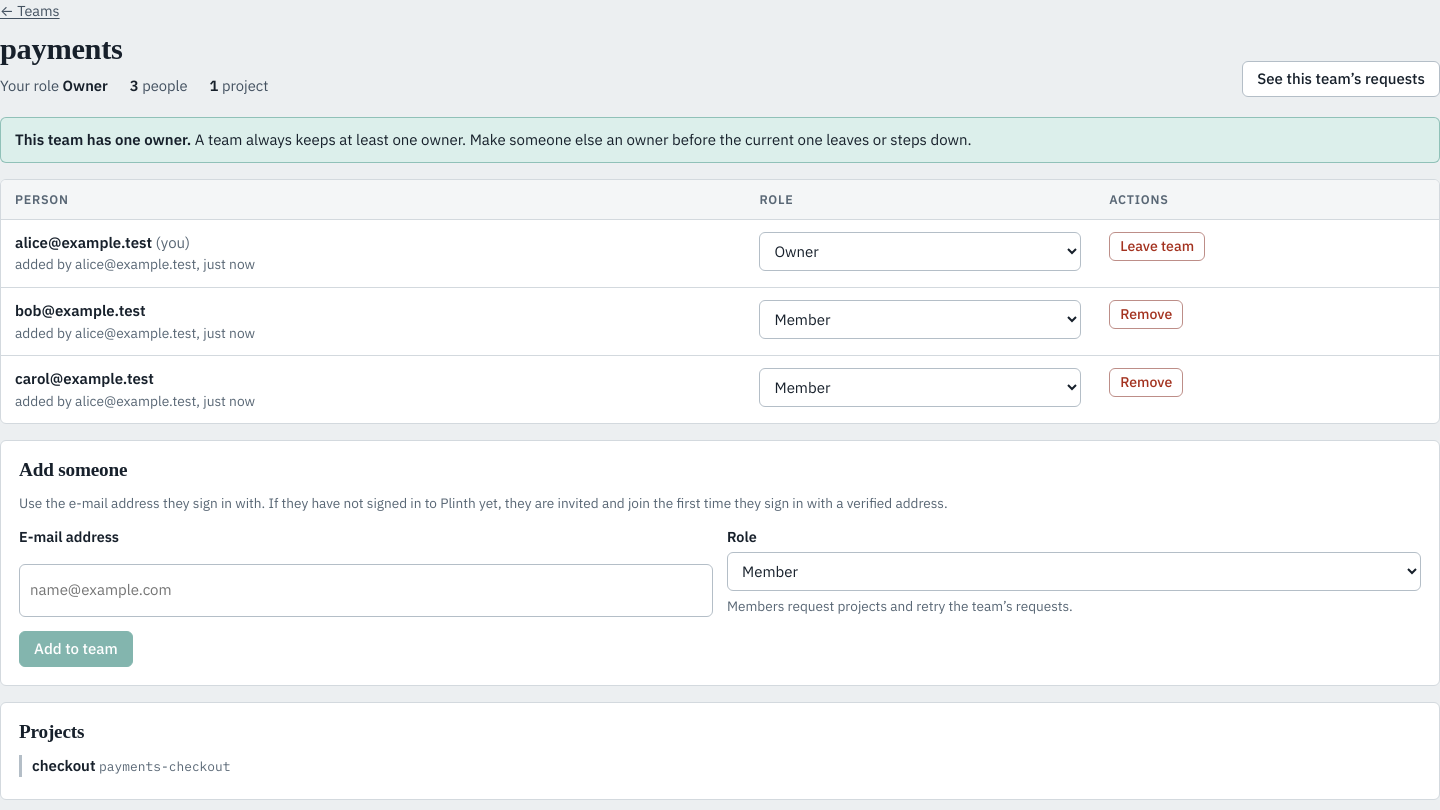
Test: team page for an owner › shows the server's explanation when someone cannot be added
Type "ghost@example.test" into the field labelled "E-mail address" at {"x": 366, "y": 591}, box [19,564,713,617]
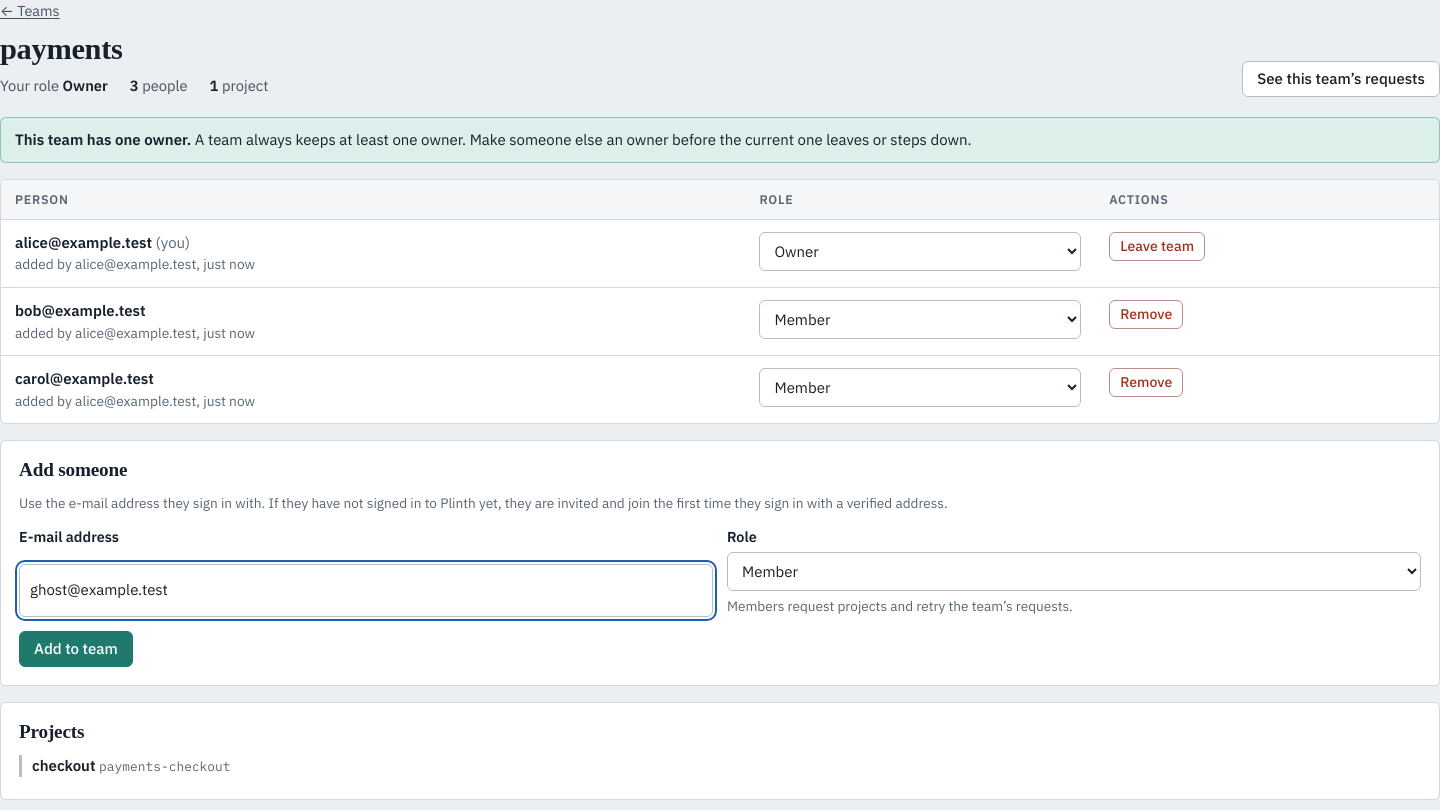
Click the button "Add to team" at {"x": 76, "y": 649}, box [19,631,133,667]
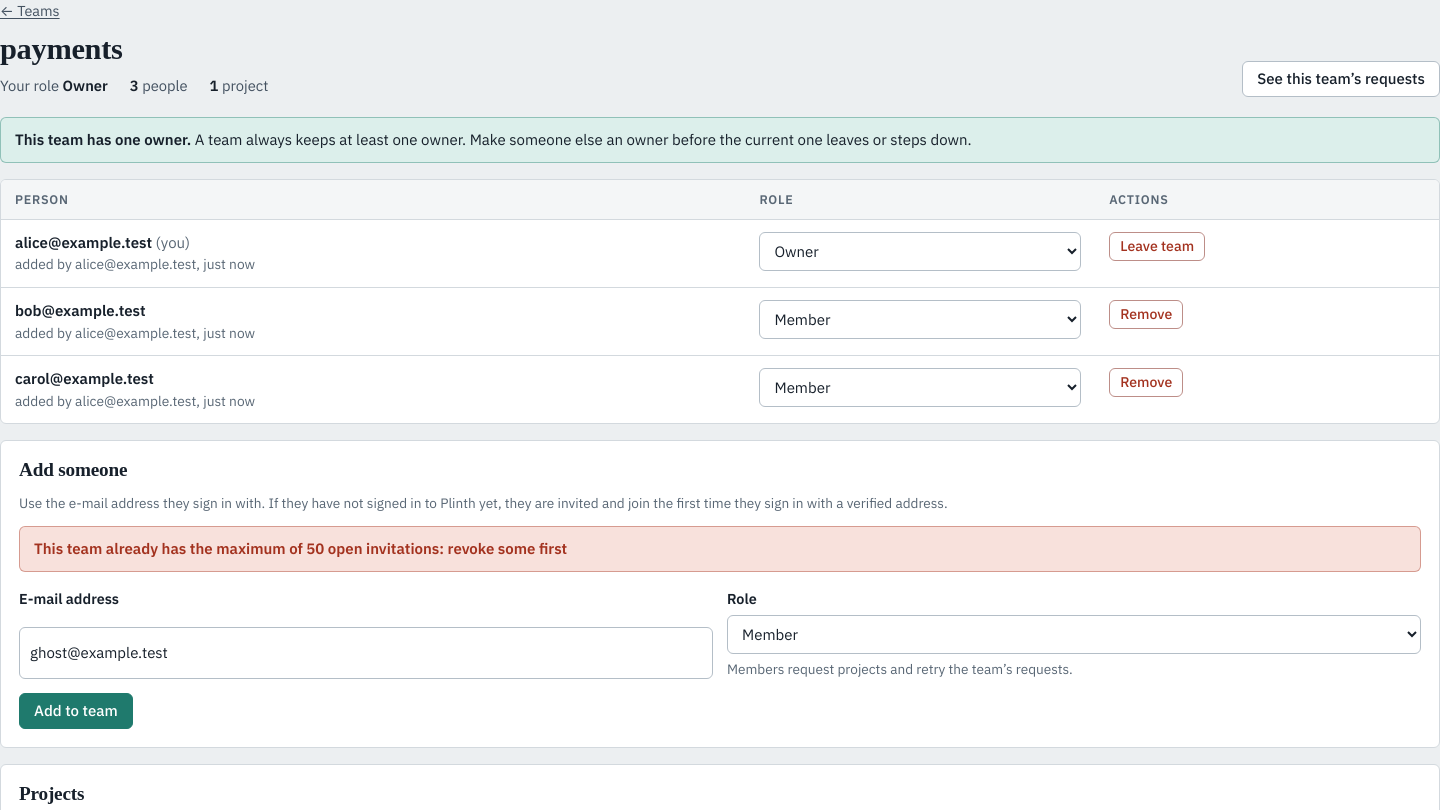
Check: the message "This team already has the maximum of 50 open invitations: revoke some first" is shown, box [19,526,1421,572]
